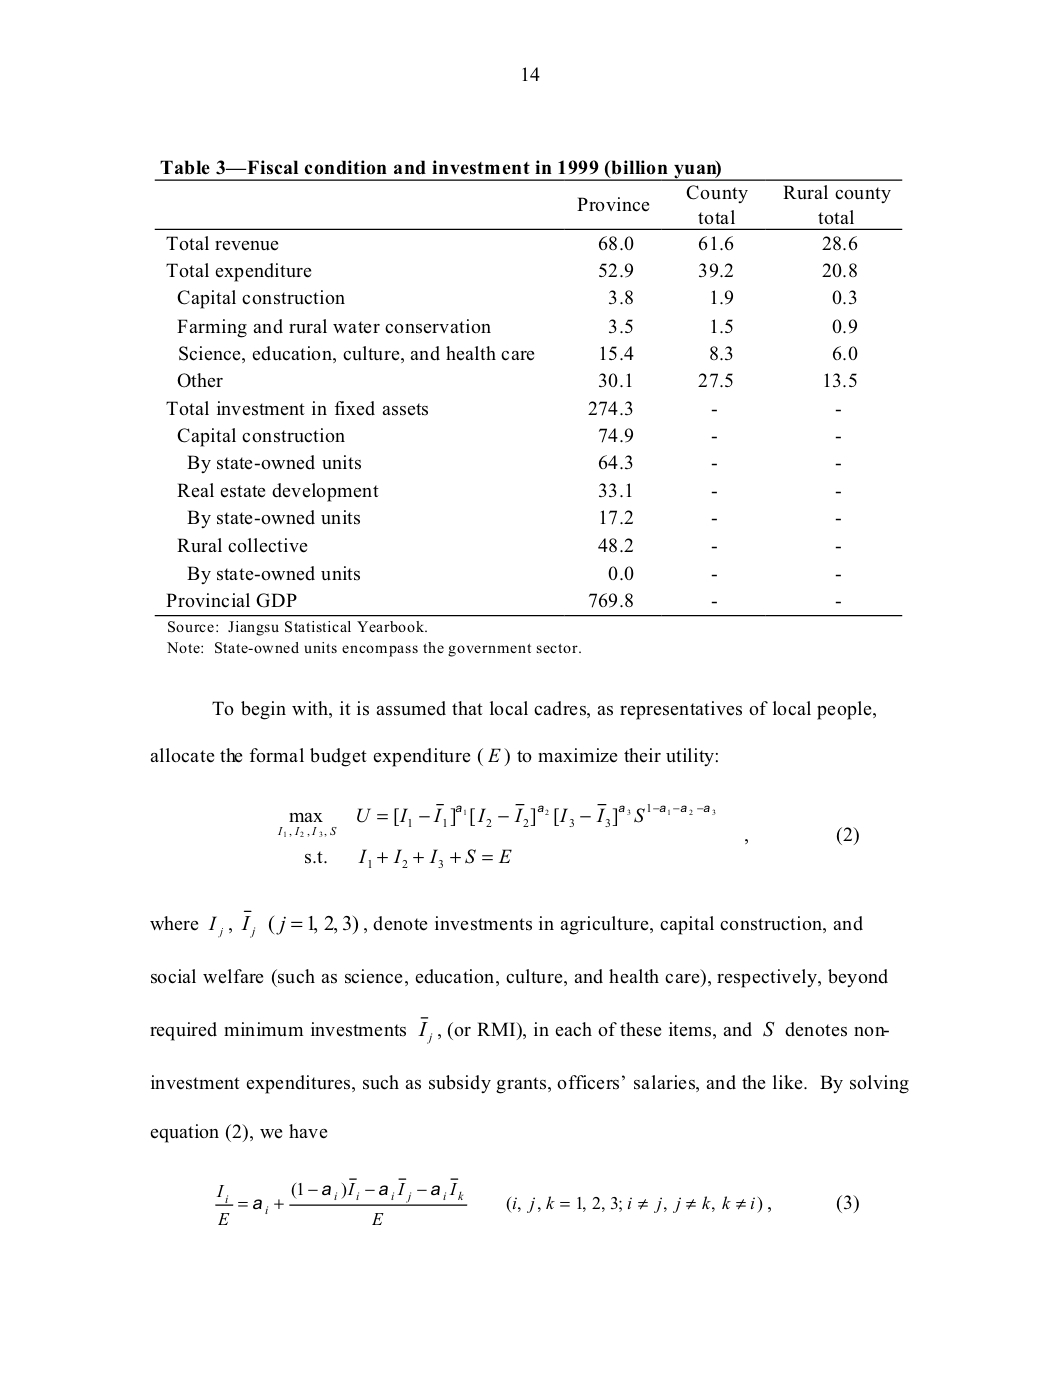Table: (154, 178, 902, 616)
formula: (215, 1178, 858, 1224), (278, 802, 858, 845), (305, 848, 512, 869)
